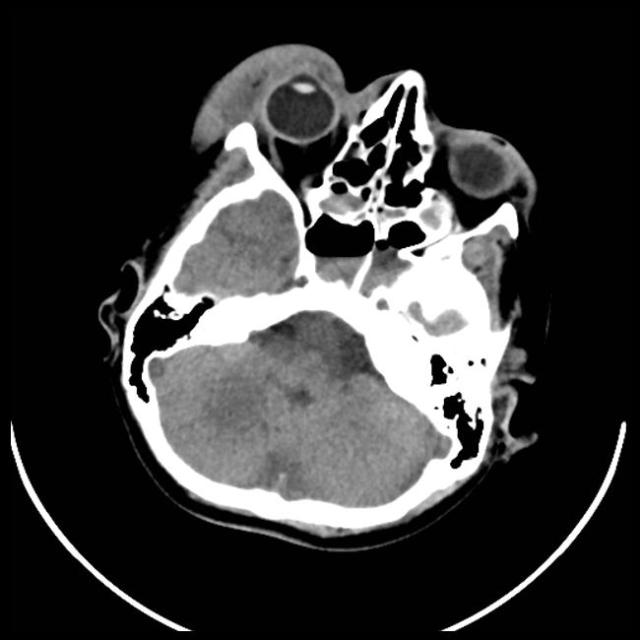lesion: (100, 42, 546, 544)
